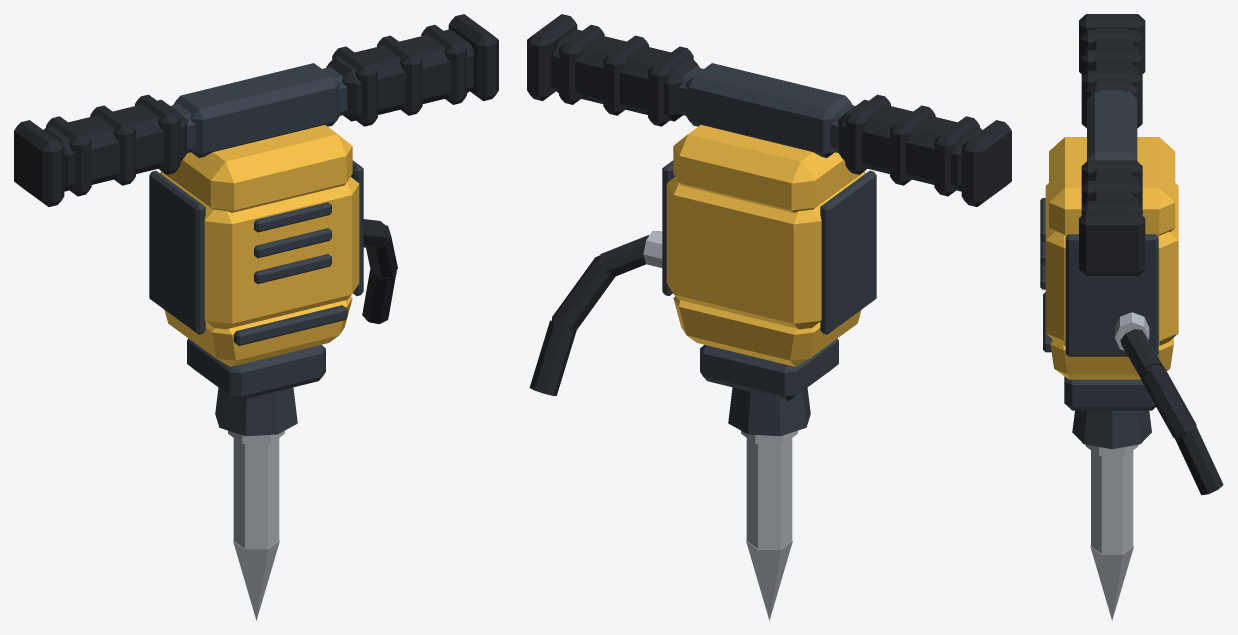
The model's file is Tool_Jackhammer.fbx.
The picture shows the model from 3 angles, left to right: view 1: azimuth 30°, elevation 25°; view 2: azimuth 150°, elevation 25°; view 3: azimuth 270°, elevation 25°; orthographic projection. The views are drawn at different scales.
Visible parts, largest first — view 1: FrameDark, Amber_SmoothPlastic, Rubber, Bit; view 2: Amber_SmoothPlastic, Rubber, FrameDark, Bit; view 3: Rubber, FrameDark, Amber_SmoothPlastic, Bit, SteelLight.
Boxes of the visible parts, box(x1,y1,x2,y2) form: FrameDark: box(149, 63, 363, 436); Amber_SmoothPlastic: box(160, 125, 359, 366); Rubber: box(14, 14, 498, 324); Bit: box(228, 430, 284, 620); Amber_SmoothPlastic: box(666, 125, 865, 366); Rubber: box(527, 14, 1011, 395); FrameDark: box(662, 63, 876, 436); Bit: box(741, 430, 797, 620); Rubber: box(1079, 14, 1223, 495); FrameDark: box(1040, 90, 1158, 449); Amber_SmoothPlastic: box(1045, 137, 1178, 379); Bit: box(1085, 444, 1138, 620); SteelLight: box(1115, 312, 1149, 350).
Size of the model in its own units: 3.7 by 4.2 by 1.38.
